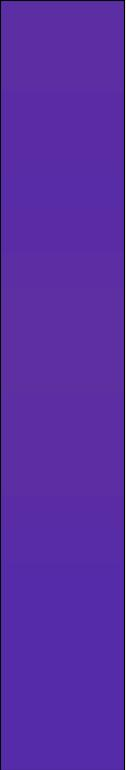safe: (14, 15, 108, 758)
